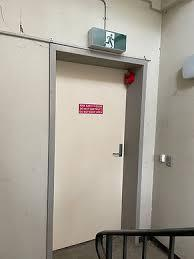exit: (52, 51, 145, 251)
unlit_exit_sign: (93, 28, 127, 50)
